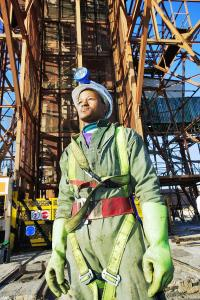gloves: (141, 199, 174, 298), (43, 217, 69, 298)
hard-hat: (71, 66, 113, 120)
person: (43, 67, 175, 300)
ppe-suit: (46, 121, 174, 300)
